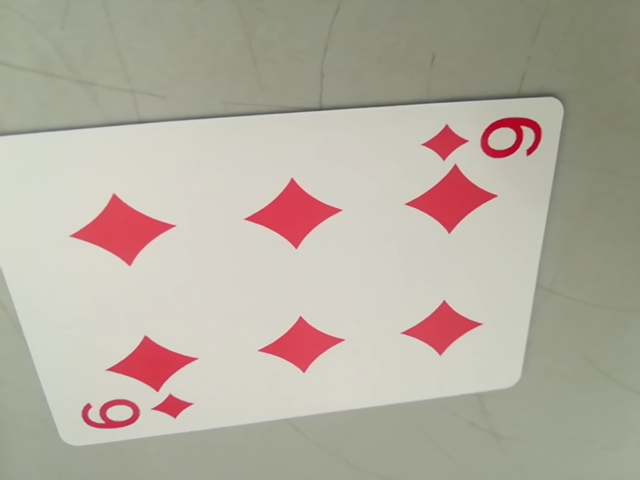fk 6: (421, 112, 546, 168), (73, 389, 196, 439)
